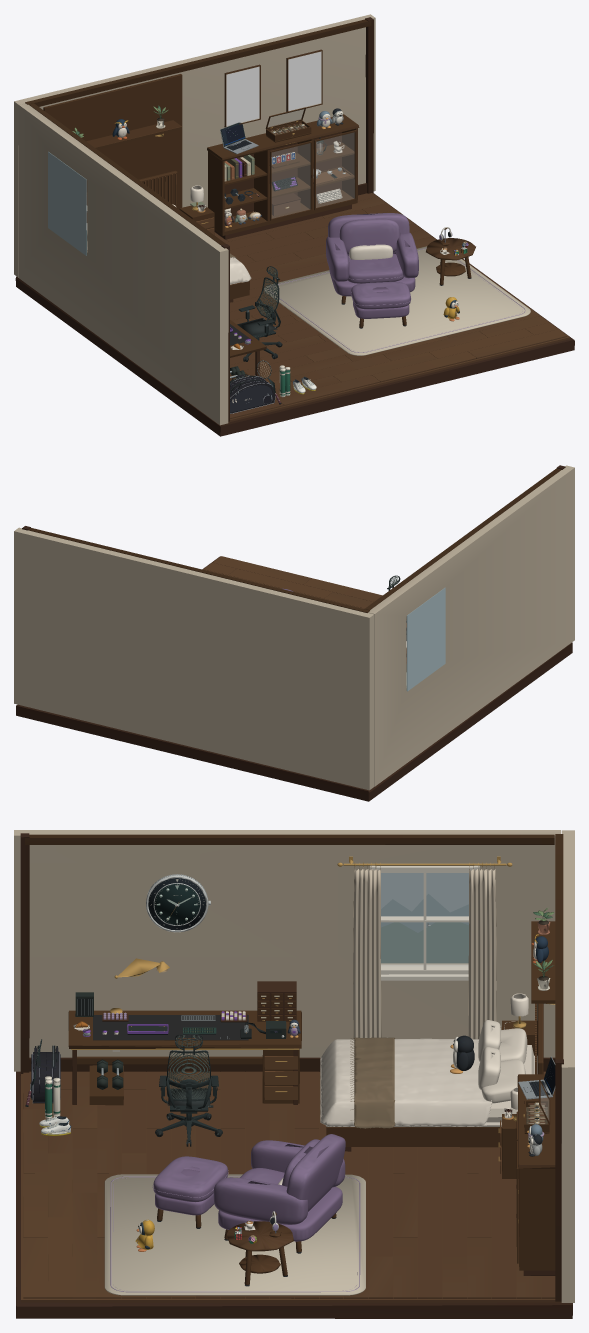
The model's file is sams-bedroom.glb.
3 renders of one model, top to bottom at view 1: azimuth 30°, elevation 25°; view 2: azimuth 150°, elevation 25°; view 3: azimuth 270°, elevation 25°, orthographic. The views are drawn at different scales.
Parts seen in each view (by area): view 1: Sam's bedroom; view 2: Sam's bedroom; view 3: Sam's bedroom.
Part boxes in pixels (x1,y1,x2,y2): Sam's bedroom: (14, 14, 574, 436); Sam's bedroom: (14, 465, 574, 801); Sam's bedroom: (14, 830, 574, 1318).
Bounding box in the file's own units: 6.49 × 3.23 × 6.45.
